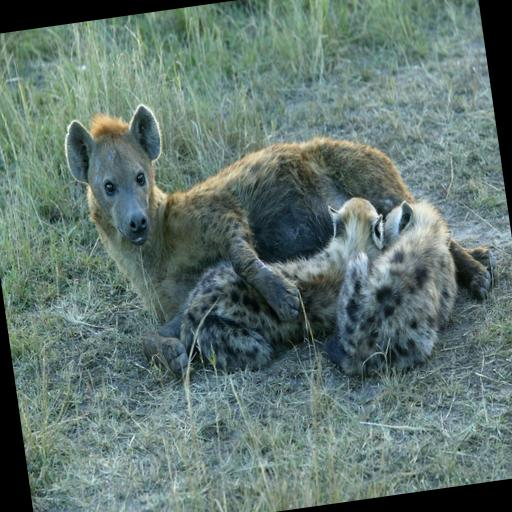hyenas: (36, 47, 476, 411)
